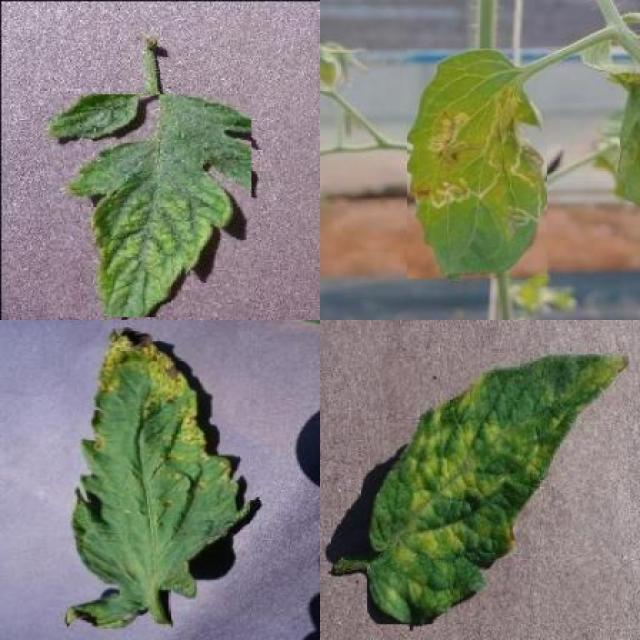Leaf Miner: (407, 49, 547, 278)
Leaf Mold: (367, 353, 629, 624)
Mosaic Virus: (48, 95, 252, 318)
Septoria: (68, 327, 251, 629)
